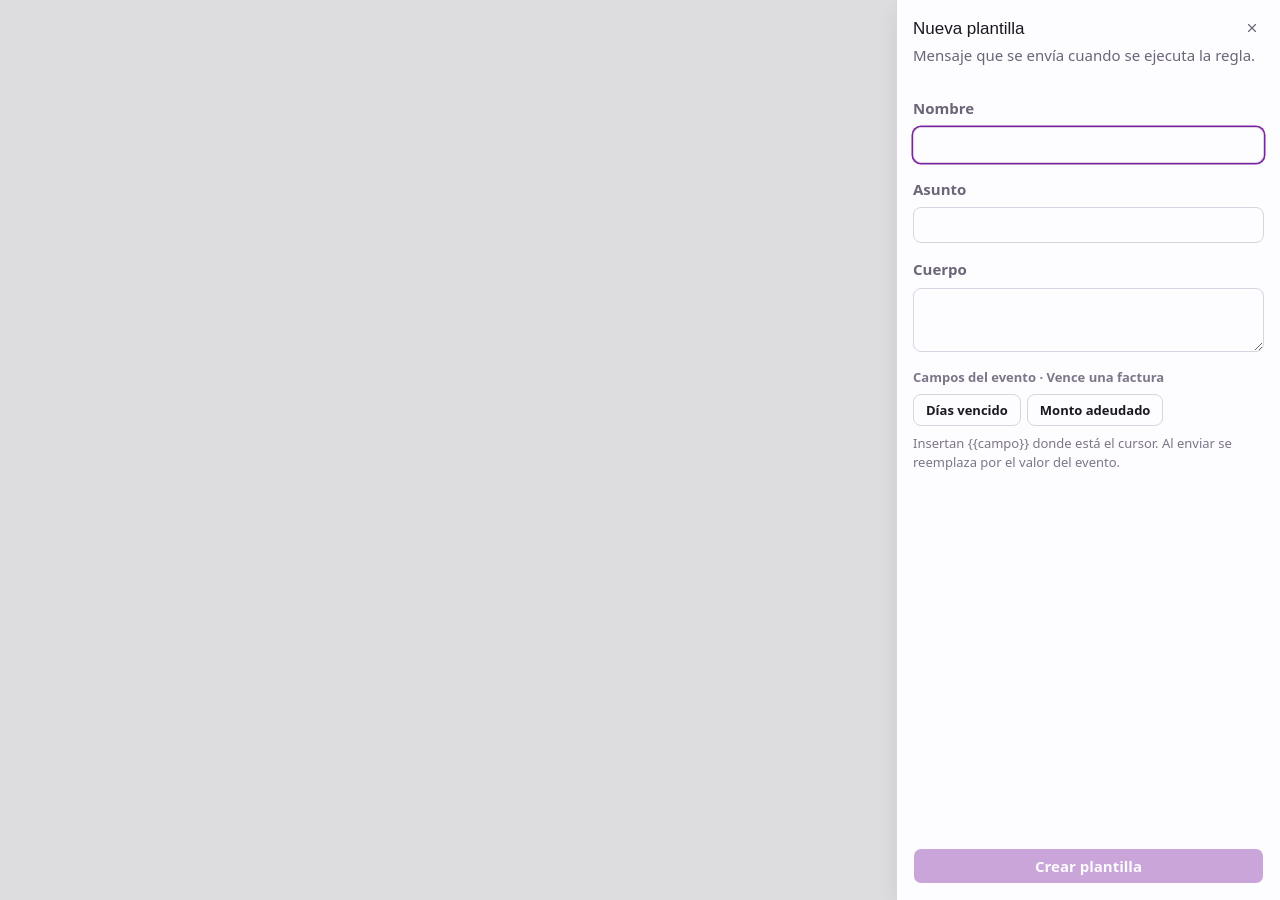
Test case: PlantillaSheet › inserta el chip en el cuerpo, que es el campo por defecto
Type "Debés " into the text box labelled "Cuerpo" at [1088, 320], box [913, 288, 1264, 352]
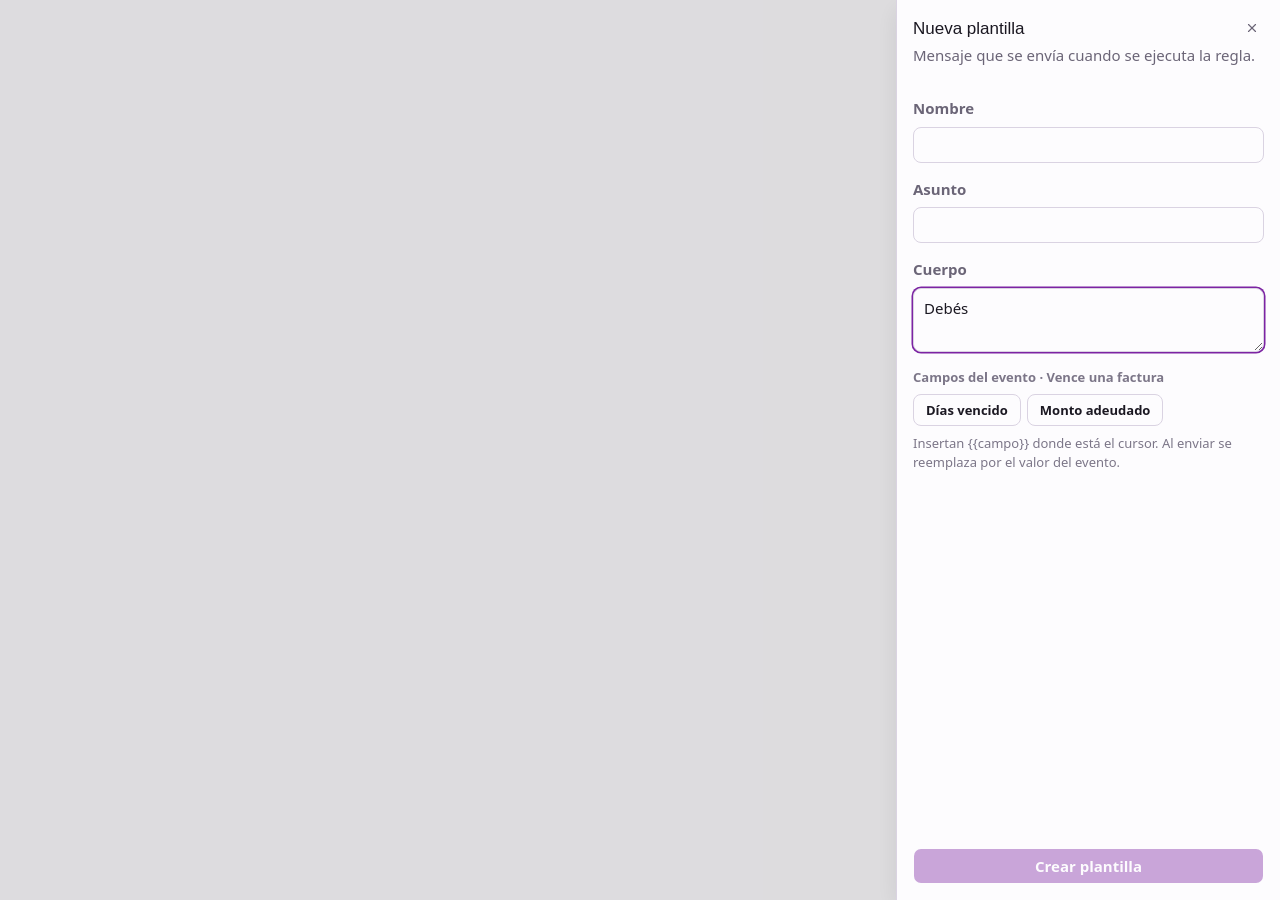
Click the button "Monto adeudado" at [1095, 410], box [1027, 394, 1163, 426]
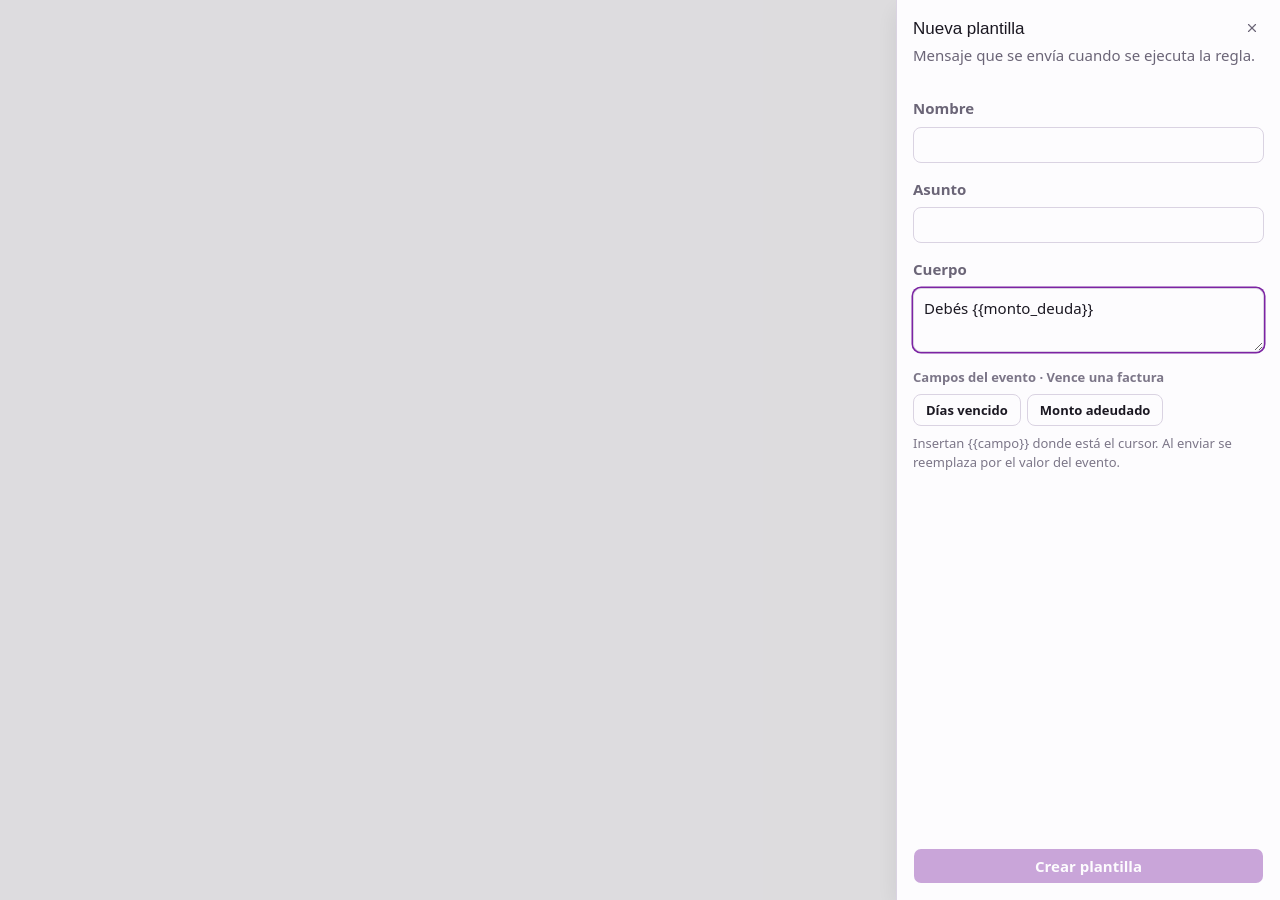
expect the text box labelled "Cuerpo" holds "Debés {{monto_deuda}}": met, box [913, 288, 1264, 352]
